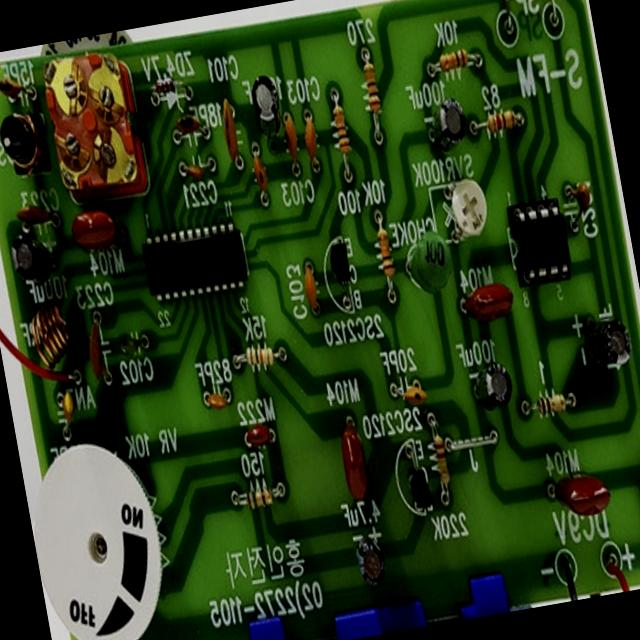Electrolytic capacitor: (420, 86, 472, 166), (582, 313, 635, 381), (247, 70, 288, 150), (468, 358, 517, 416), (351, 530, 392, 594)
IC: (136, 212, 252, 314), (506, 195, 576, 292)
ceramic capacitor: (76, 306, 114, 398), (214, 91, 246, 185), (295, 94, 327, 180), (245, 138, 278, 219), (274, 106, 308, 184), (562, 172, 596, 240), (294, 256, 327, 326), (386, 373, 434, 409), (164, 111, 209, 148), (177, 150, 216, 190), (196, 381, 234, 421)
resistor: (353, 49, 389, 124), (327, 88, 360, 166), (371, 220, 404, 296), (472, 95, 524, 139), (232, 478, 284, 518), (232, 336, 276, 375), (430, 434, 455, 501), (427, 39, 472, 76), (530, 384, 572, 416)
transistor: (322, 230, 363, 318), (393, 439, 437, 518)
